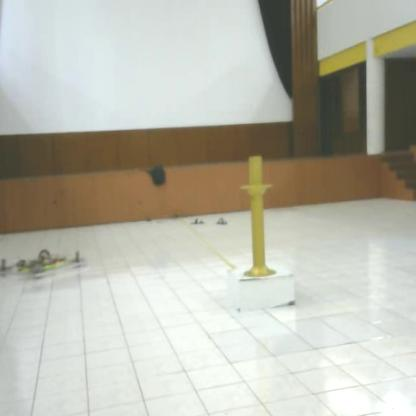pole: (238, 154, 282, 285)
